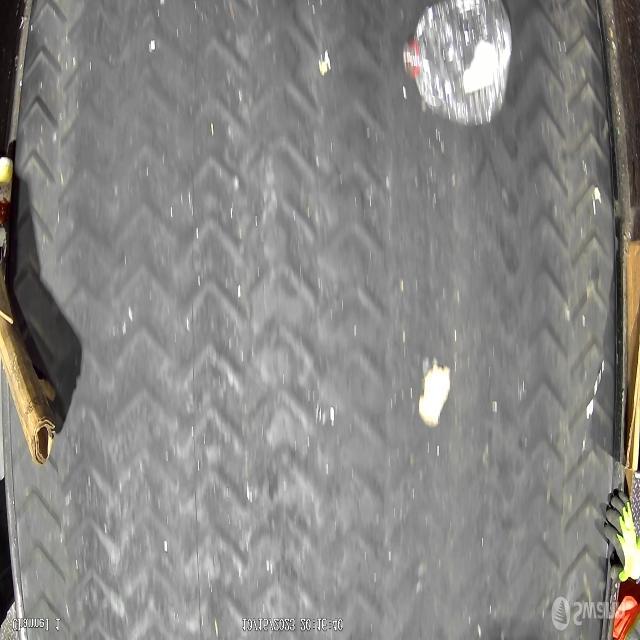plastic_bottle: (402, 0, 516, 132)
